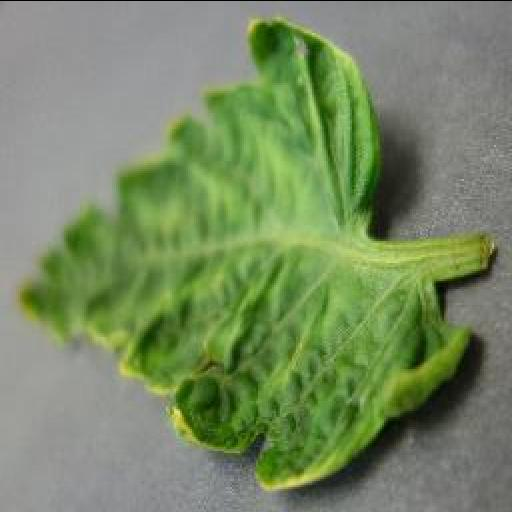disease_tomato: (18, 17, 470, 491)
